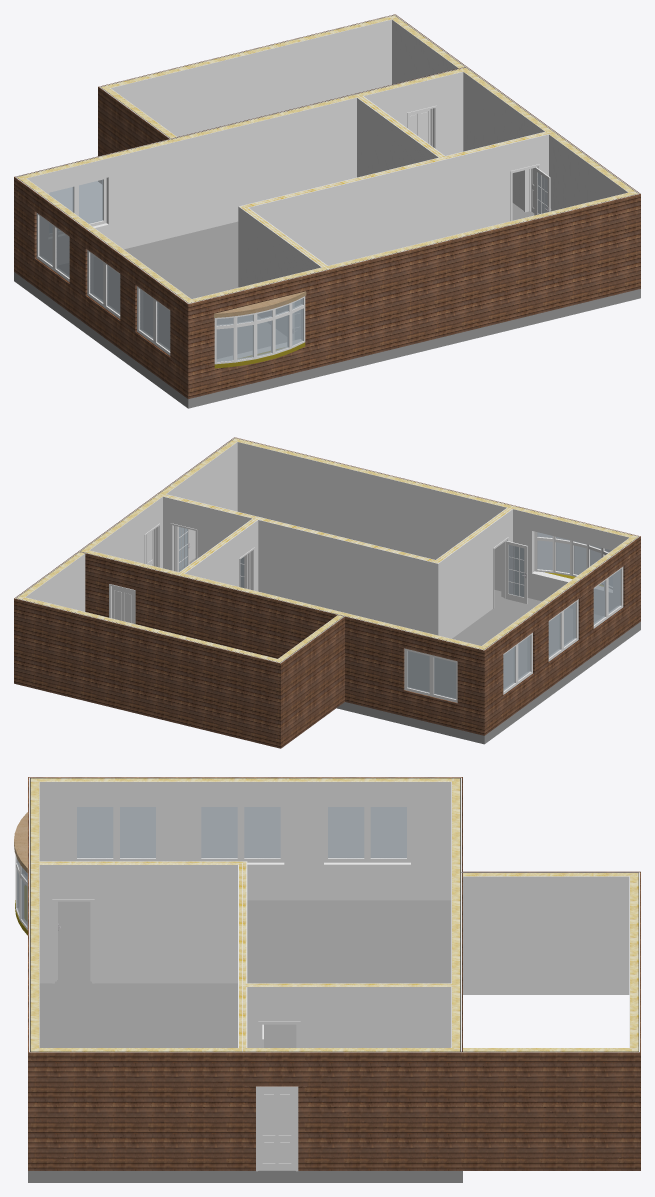
File: ArchicadLevel1.dae
The picture shows the model from 3 angles, top to bottom: view 1: azimuth 30°, elevation 25°; view 2: azimuth 150°, elevation 25°; view 3: azimuth 270°, elevation 25°; orthographic projection. The views are drawn at different scales.
Visible parts, largest first — view 1: VisualSceneNode1 (×20); view 2: VisualSceneNode1 (×23); view 3: VisualSceneNode1 (×19).
Part boxes in pixels (<box>): VisualSceneNode1 (×20): <box>14,14,640,408</box>; VisualSceneNode1 (×23): <box>14,437,640,748</box>; VisualSceneNode1 (×19): <box>14,777,640,1182</box>.
Bounding box in the file's own units: 15.02 × 14.42 × 3.3.
Materials: 12 (4 with a texture image).
